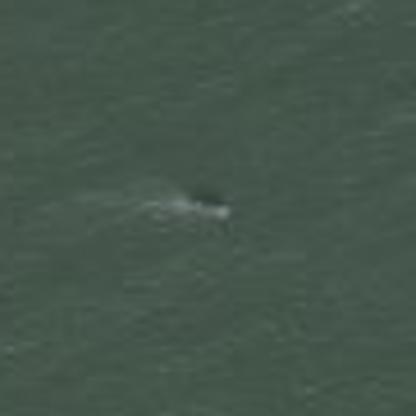ship: (184, 190, 234, 224)
